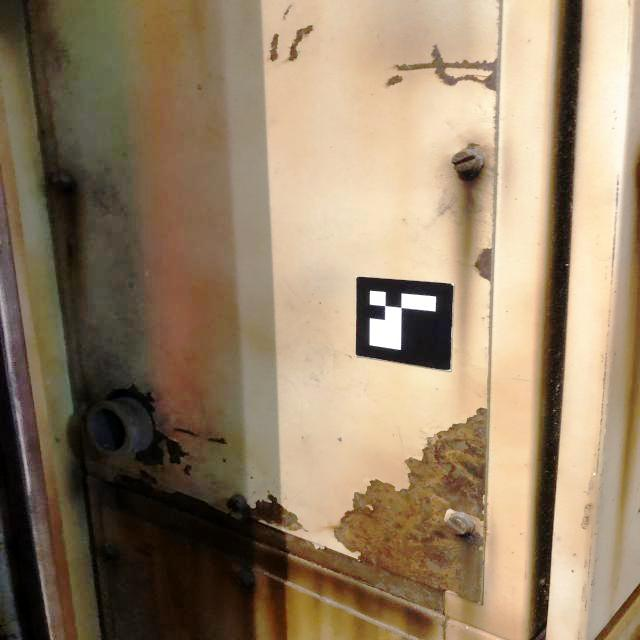Corrosion: (109, 407, 487, 622), (620, 155, 640, 552), (104, 382, 192, 466), (395, 44, 497, 91), (449, 142, 489, 260), (50, 176, 79, 264), (288, 25, 313, 61), (474, 249, 492, 283), (236, 569, 255, 587), (270, 34, 279, 62), (175, 428, 198, 437), (387, 75, 403, 86), (205, 438, 228, 445), (281, 4, 291, 19)
